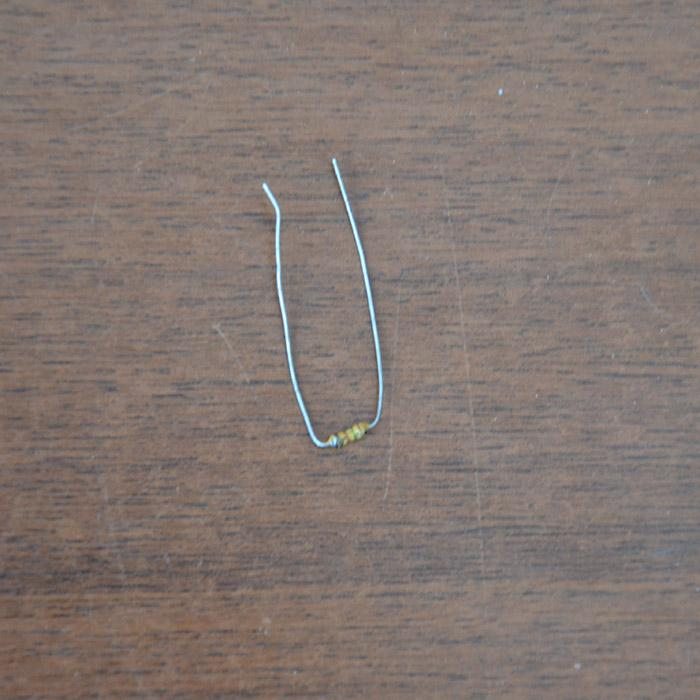resistor: (326, 420, 375, 451)
